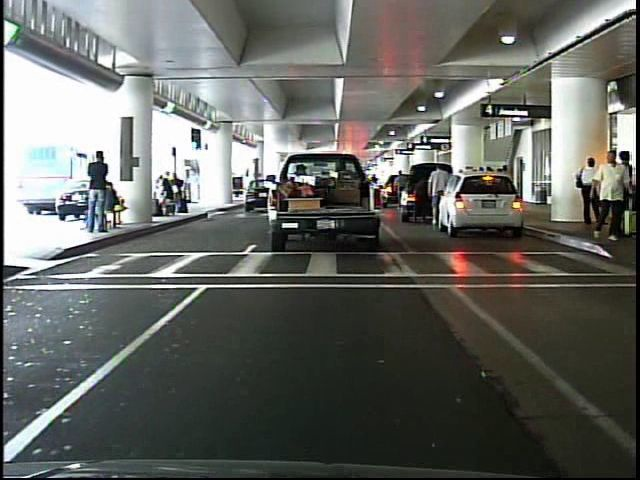person: (587, 145, 627, 246), (577, 152, 614, 235), (88, 145, 116, 234), (591, 152, 616, 241), (424, 161, 451, 232), (188, 166, 202, 208)
